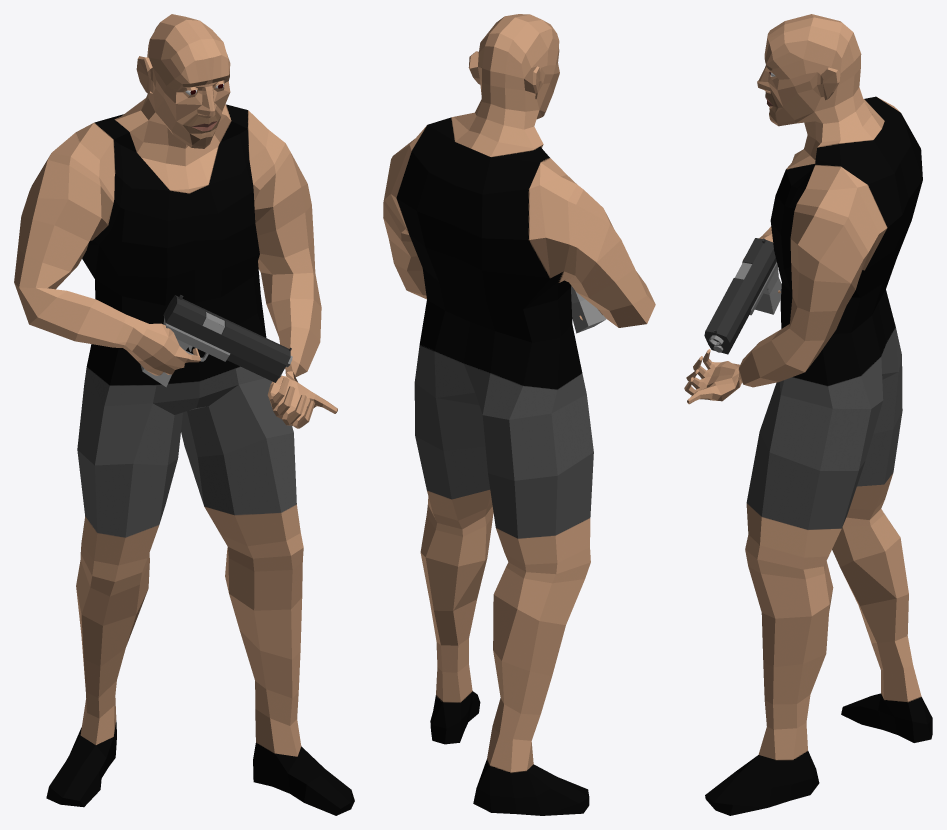
Rendered from PlayerIdle(29).obj.
3 renders of one model, left to right at view 1: azimuth 30°, elevation 25°; view 2: azimuth 150°, elevation 25°; view 3: azimuth 270°, elevation 25°, orthographic. The views are drawn at different scales.
Parts seen in each view (by area): view 1: Plane002, Box003; view 2: Plane002, Box003; view 3: Plane002, Box003.
Boxes of the visible parts, x1=… form: Plane002: x1=14, y1=14, x2=354, y2=815; Box003: x1=140, y1=295, x2=292, y2=387; Plane002: x1=383, y1=14, x2=655, y2=815; Box003: x1=571, y1=286, x2=606, y2=333; Plane002: x1=684, y1=14, x2=932, y2=815; Box003: x1=704, y1=238, x2=781, y2=354.
Bounding box in the file's own units: 675 × 1809 × 550.
